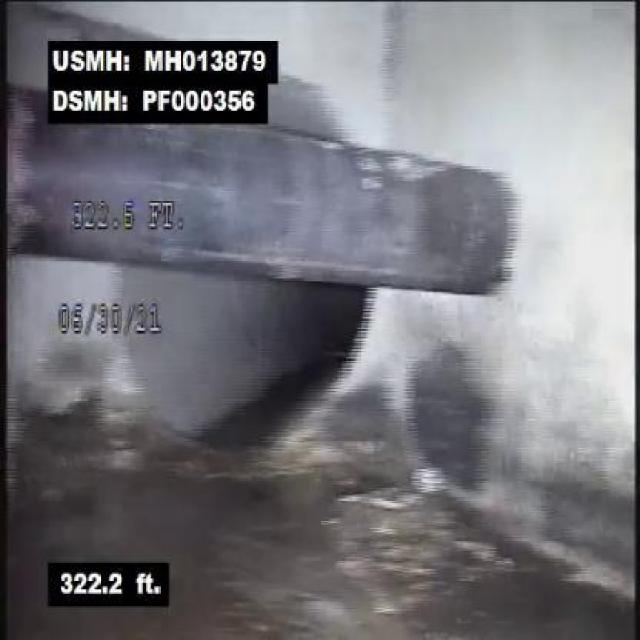Utility intrusion: (3, 109, 523, 300)
